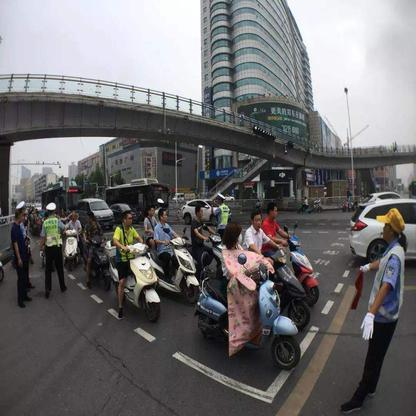target: (194, 224, 302, 370), (243, 214, 311, 326), (101, 212, 160, 326), (150, 209, 201, 304)
